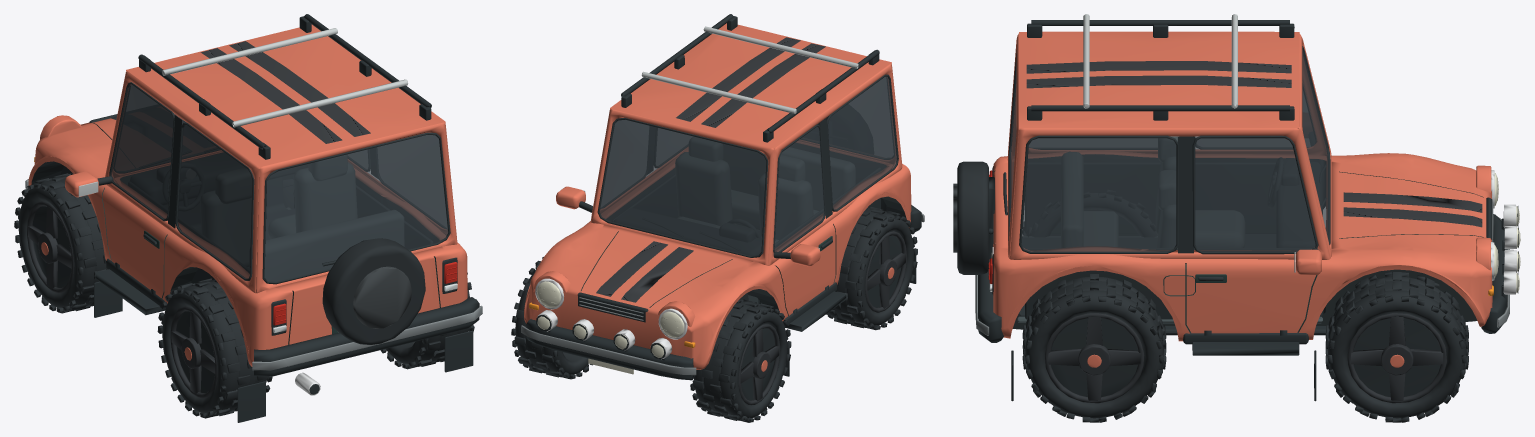
Rendered from tanuki_lod2.fbx.
3 views of the same model, side by side, from view 1: azimuth 30°, elevation 25°; view 2: azimuth 150°, elevation 25°; view 3: azimuth 270°, elevation 25° (orthographic). The views are drawn at different scales.
Visible parts, largest first — view 1: Body, Wheel_RL_Mesh, Wheel_FL_Mesh, Wheel_RR_Mesh; view 2: Body, Wheel_FL_Mesh, Wheel_RL_Mesh, Wheel_FR_Mesh; view 3: Body, Wheel_FR_Mesh, Wheel_RR_Mesh, Wheel_RL_Mesh.
Boxes of the visible parts, x1,y1,x2,y2 form: Body: [25, 14, 482, 422]; Wheel_RL_Mesh: [157, 278, 272, 418]; Wheel_FL_Mesh: [14, 173, 107, 313]; Wheel_RR_Mesh: [380, 272, 474, 369]; Body: [521, 14, 924, 380]; Wheel_FL_Mesh: [690, 299, 791, 422]; Wheel_RL_Mesh: [826, 206, 917, 330]; Wheel_FR_Mesh: [511, 257, 592, 379]; Body: [953, 14, 1520, 401]; Wheel_FR_Mesh: [1325, 272, 1468, 422]; Wheel_RR_Mesh: [1022, 274, 1166, 422]; Wheel_RL_Mesh: [1023, 190, 1157, 236].
Size of the model in its own units: 225 by 211 by 360.
